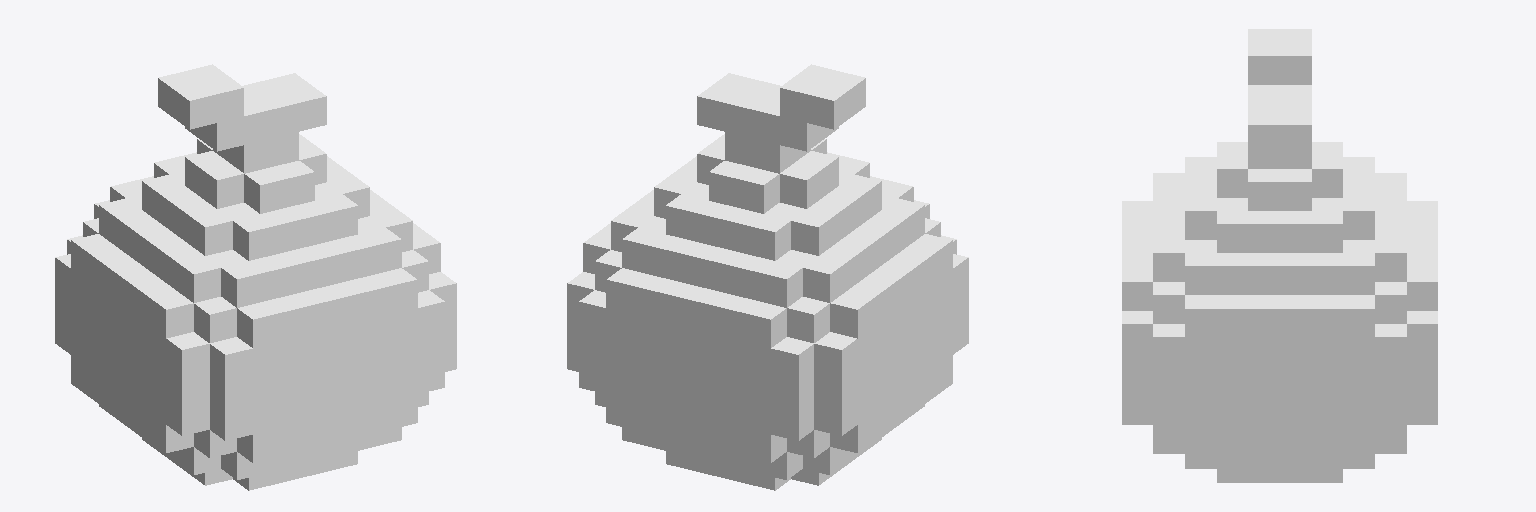
Rendered from Special.obj.
3 views of the same model, side by side, from view 1: azimuth 30°, elevation 25°; view 2: azimuth 150°, elevation 25°; view 3: azimuth 270°, elevation 25° (orthographic).
Visible parts, largest first — view 1: object 1; view 2: object 1; view 3: object 1.
Part boxes in pixels (left/top/right/bottom): object 1: left=55, top=64, right=456, bottom=490; object 1: left=567, top=64, right=968, bottom=490; object 1: left=1122, top=29, right=1437, bottom=482.
Bounding box in the file's own units: 1 × 1.3 × 1.